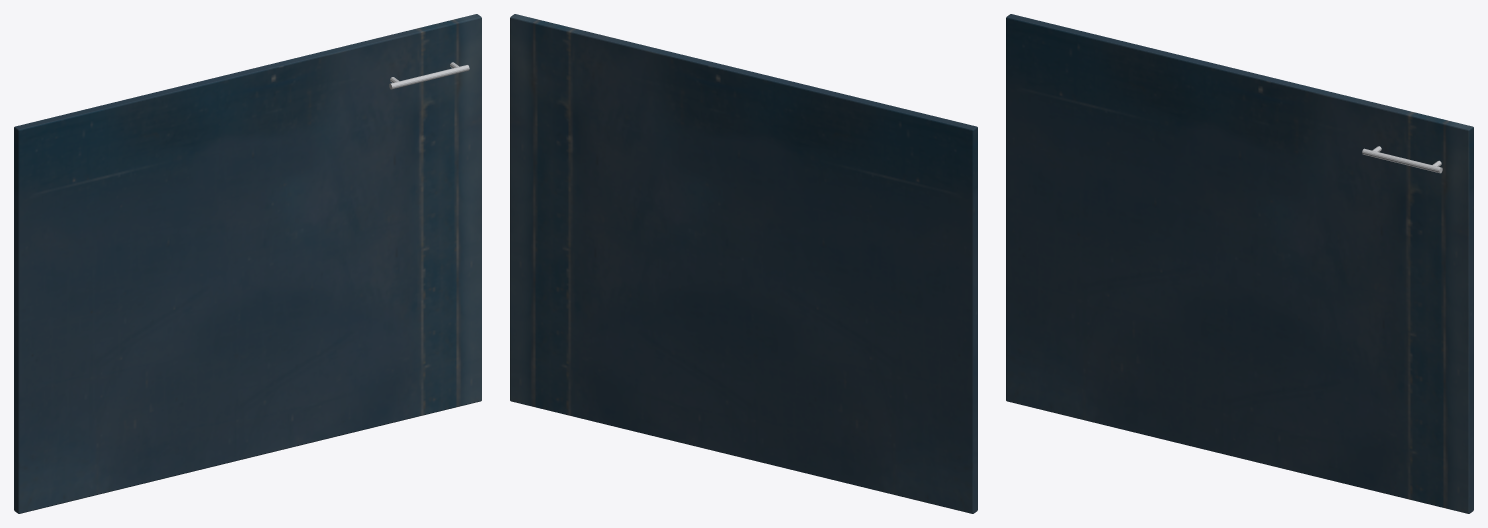
File: counter_door_l.glb
3 renders of one model, left to right at view 1: azimuth 30°, elevation 25°; view 2: azimuth 150°, elevation 25°; view 3: azimuth 330°, elevation 25°, orthographic.
Parts seen in each view (by area): view 1: CounterDoor_L; view 2: CounterDoor_L; view 3: CounterDoor_L.
Part boxes in pixels (x1=…): CounterDoor_L: x1=14, y1=14, x2=481, y2=513; CounterDoor_L: x1=510, y1=14, x2=977, y2=513; CounterDoor_L: x1=1006, y1=14, x2=1473, y2=513.
Bounding box in the file's own units: 1.15 × 0.912 × 0.0582.
2 materials, 1 textured.
